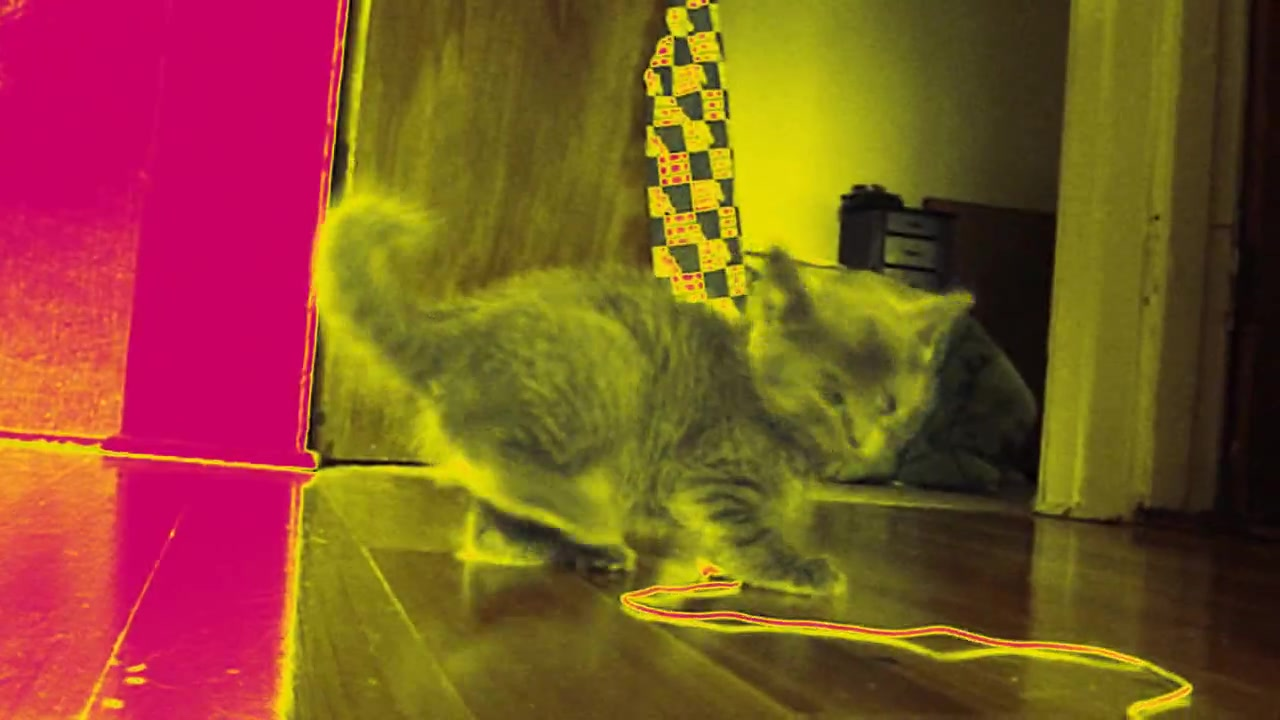cat: (310, 188, 976, 598)
